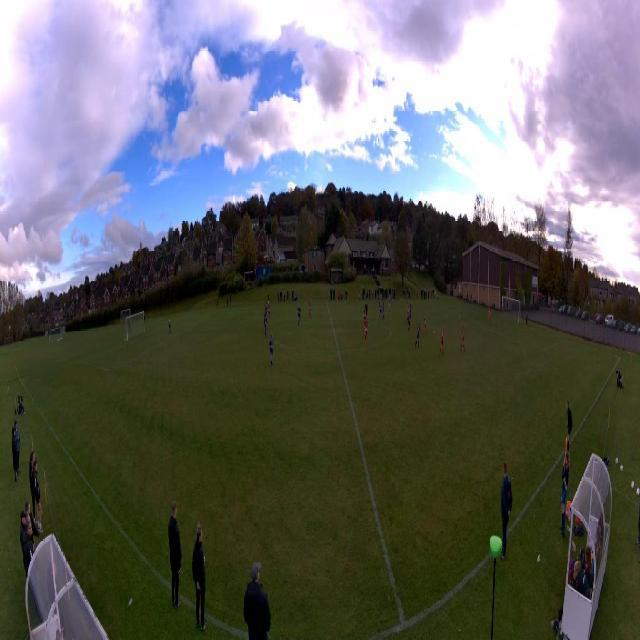ball: (433, 330, 435, 334)
player: (269, 334, 274, 369), (415, 321, 421, 349), (363, 317, 369, 344), (439, 326, 444, 357), (460, 325, 465, 352), (263, 313, 267, 338), (407, 312, 411, 334), (297, 306, 301, 327), (424, 314, 428, 334), (308, 300, 312, 319), (406, 304, 409, 323), (268, 302, 271, 321), (382, 303, 385, 321), (379, 303, 382, 320), (488, 308, 491, 325), (265, 303, 268, 319), (363, 306, 367, 318), (365, 301, 368, 316), (169, 316, 171, 334), (410, 301, 412, 319), (389, 298, 391, 314), (378, 295, 381, 305)
